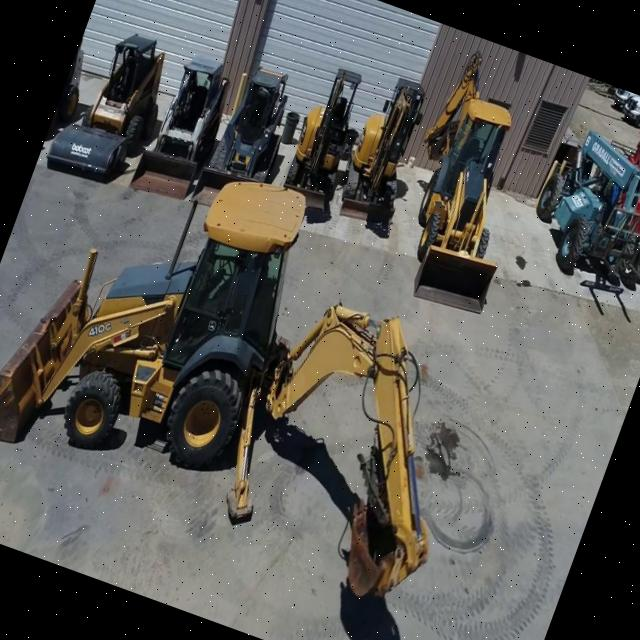Excavator: (326, 65, 444, 242), (272, 59, 378, 217)
Loader: (44, 15, 180, 191), (194, 55, 308, 213), (126, 46, 235, 206)
